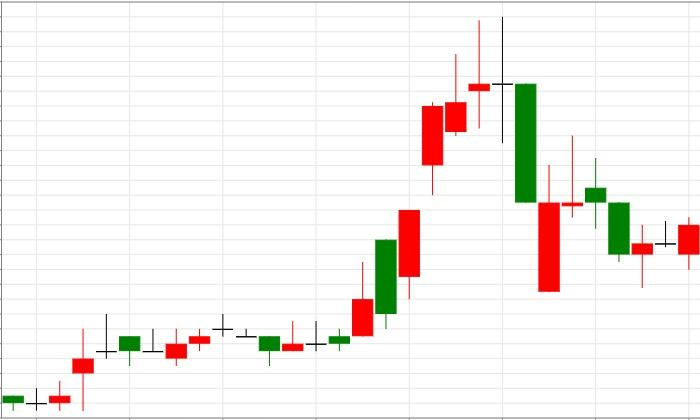shooting_star_fall: (352, 53, 467, 337)
